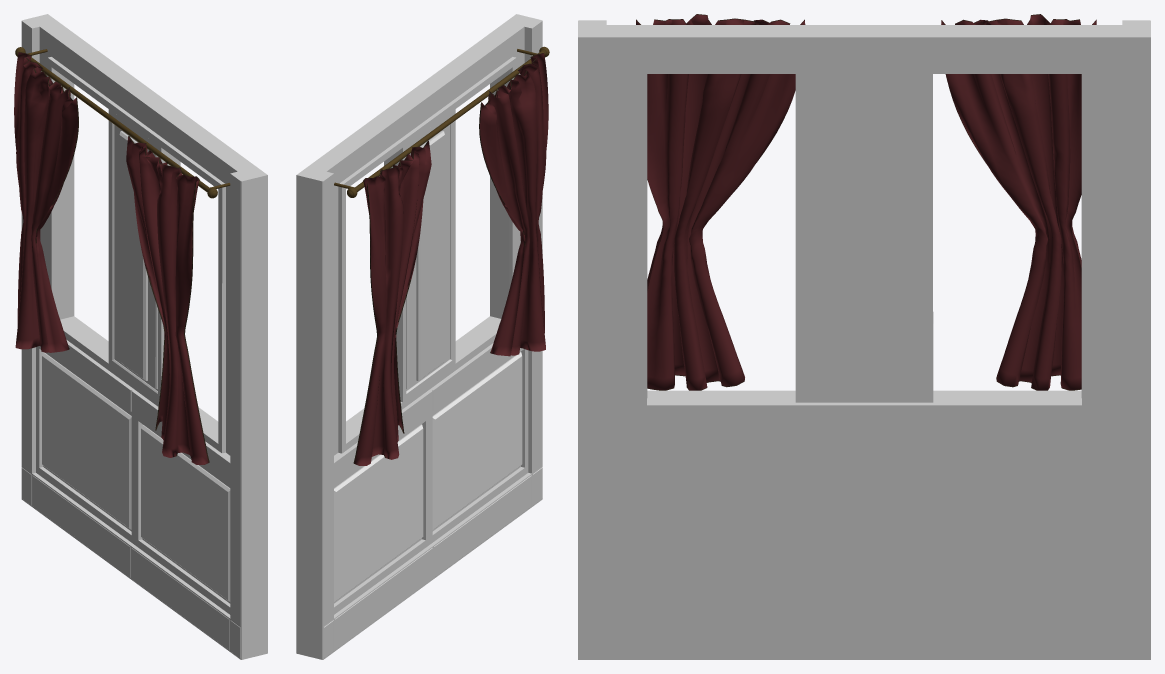
File: Wall_Window 1.fbx
3 renders of one model, left to right at view 1: azimuth 30°, elevation 25°; view 2: azimuth 150°, elevation 25°; view 3: azimuth 270°, elevation 25°, orthographic. The views are drawn at different scales.
Visible parts, largest first — view 1: Wall_Window 1; view 2: Wall_Window 1; view 3: Wall_Window 1.
Part boxes in pixels (x1,y1,x2,y2): Wall_Window 1: (14, 14, 267, 659); Wall_Window 1: (296, 14, 549, 659); Wall_Window 1: (578, 14, 1150, 659).
Size of the model in its own units: 35.16 by 240 by 200.
